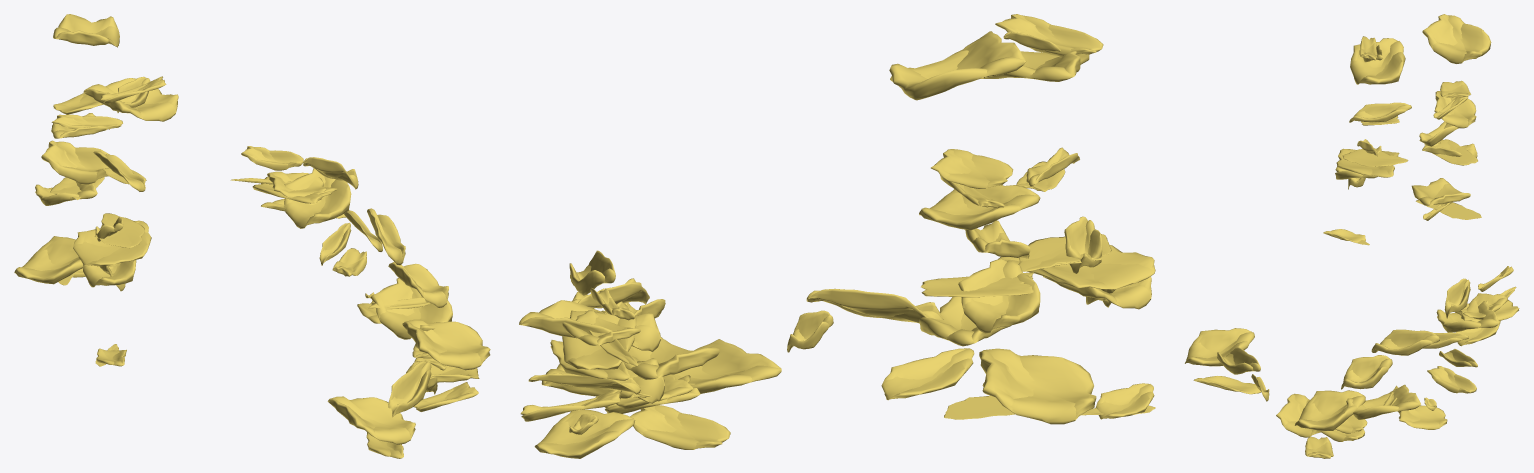
File: FungiExample.fbx
The picture shows the model from 3 angles, left to right: view 1: azimuth 30°, elevation 25°; view 2: azimuth 150°, elevation 25°; view 3: azimuth 270°, elevation 25°; orthographic projection. The views are drawn at different scales.
Parts seen in each view (by area): view 1: FungiGenerator; view 2: FungiGenerator; view 3: FungiGenerator.
Boxes of the visible parts, x1,y1,x2,y2 form: FungiGenerator: (14, 14, 490, 458); FungiGenerator: (519, 14, 1155, 458); FungiGenerator: (1184, 14, 1519, 458).
Size of the model in its own units: 275 by 260 by 248.
